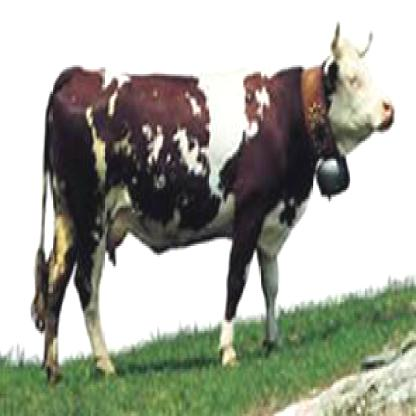cow: (31, 18, 396, 382)
